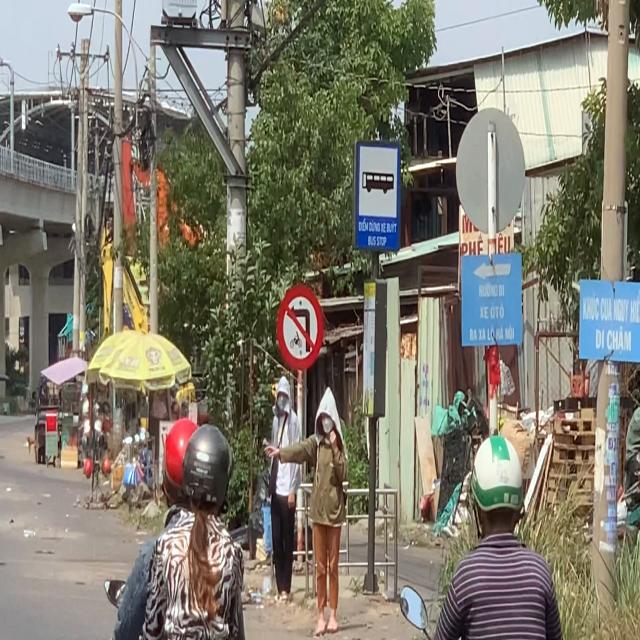Ben xe buyt: (351, 135, 404, 253)
Cam re trai: (276, 284, 324, 372)
